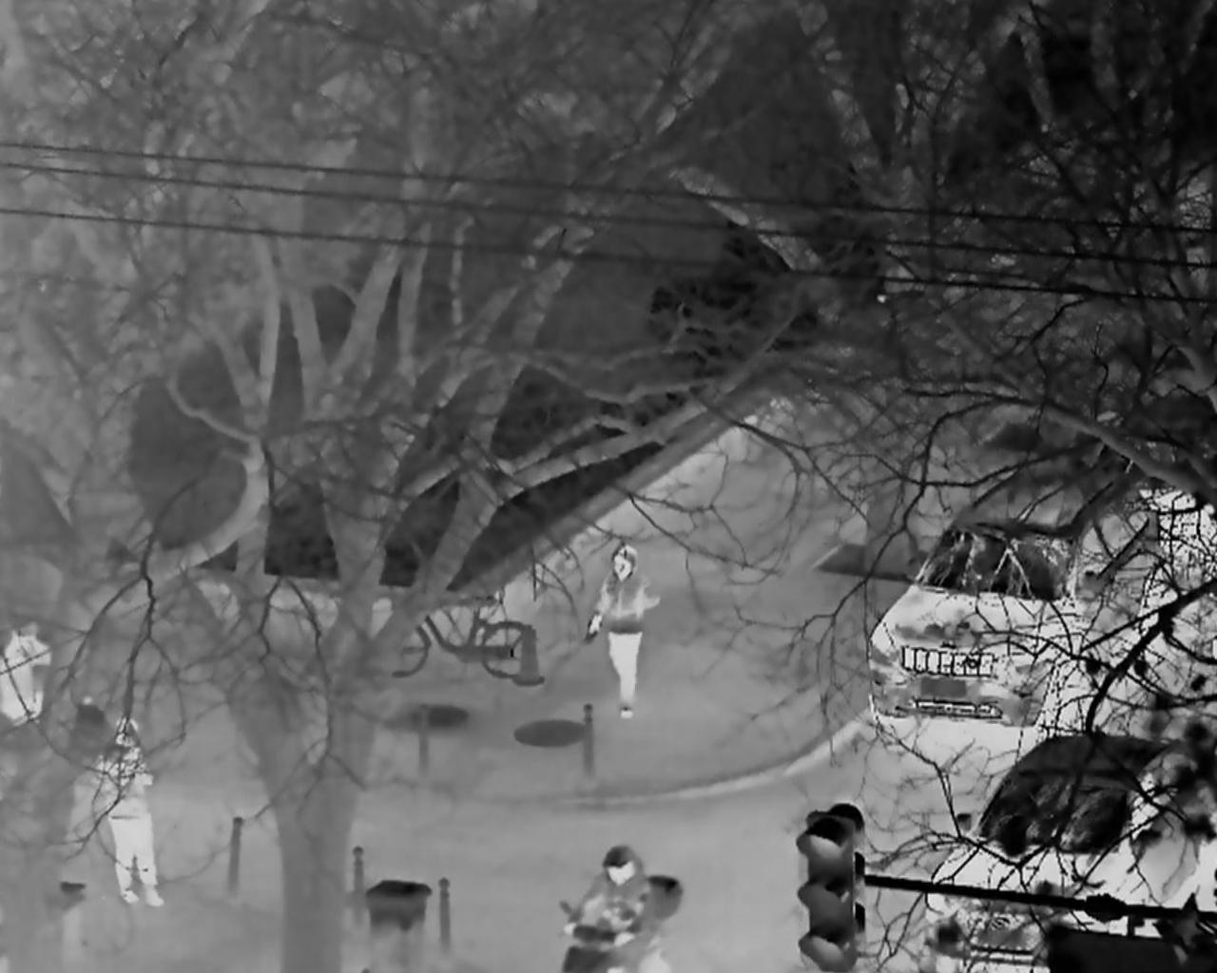person: (586, 542, 665, 719), (95, 715, 166, 907), (563, 847, 656, 973), (2, 620, 51, 726)
